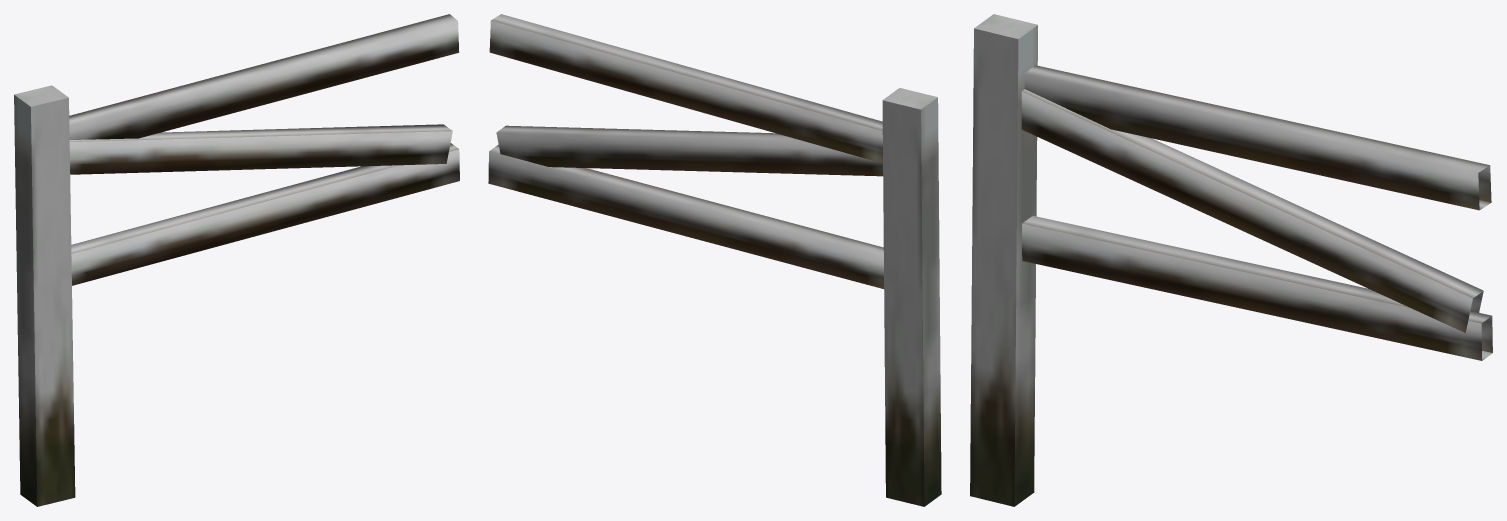
The model's file is general_obj_fence05.fbx.
3 views of the same model, side by side, from view 1: azimuth 30°, elevation 25°; view 2: azimuth 150°, elevation 25°; view 3: azimuth 330°, elevation 25° (orthographic). The views are drawn at different scales.
Parts seen in each view (by area): view 1: Sphere01; view 2: Sphere01; view 3: Sphere01.
Part boxes in pixels (left/top/right/bottom): Sphere01: left=14, top=14, right=459, bottom=506; Sphere01: left=488, top=14, right=941, bottom=506; Sphere01: left=970, top=14, right=1492, bottom=506.
Bounding box in the file's own units: 2.44 × 2.14 × 0.213.
